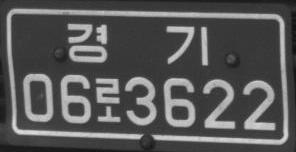0: (22, 72, 54, 122)
2: (201, 77, 236, 130), (242, 79, 277, 132)
3: (124, 75, 157, 126)
6: (162, 76, 196, 128), (59, 73, 92, 124)
경기_D: (66, 23, 209, 67)
로: (94, 76, 121, 123)
